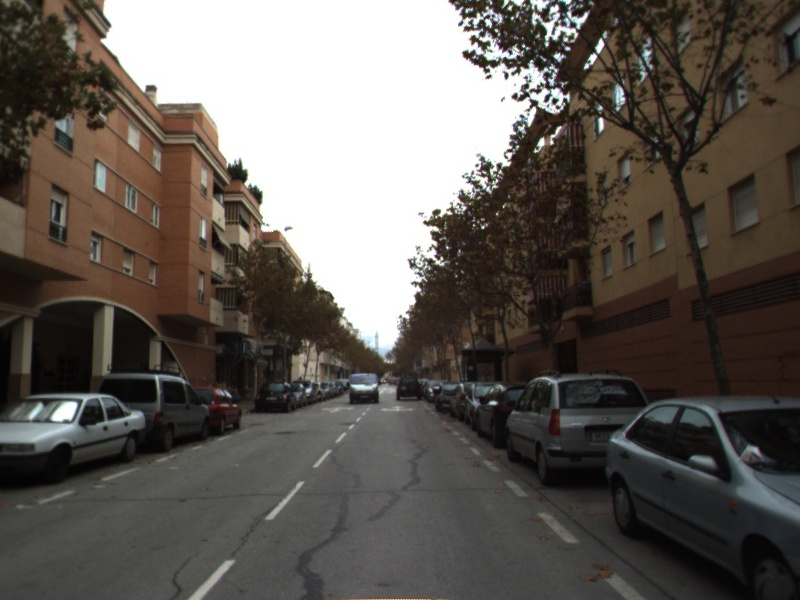STRAIGHT_LEFT_RIGHT: (378, 403, 418, 414)
